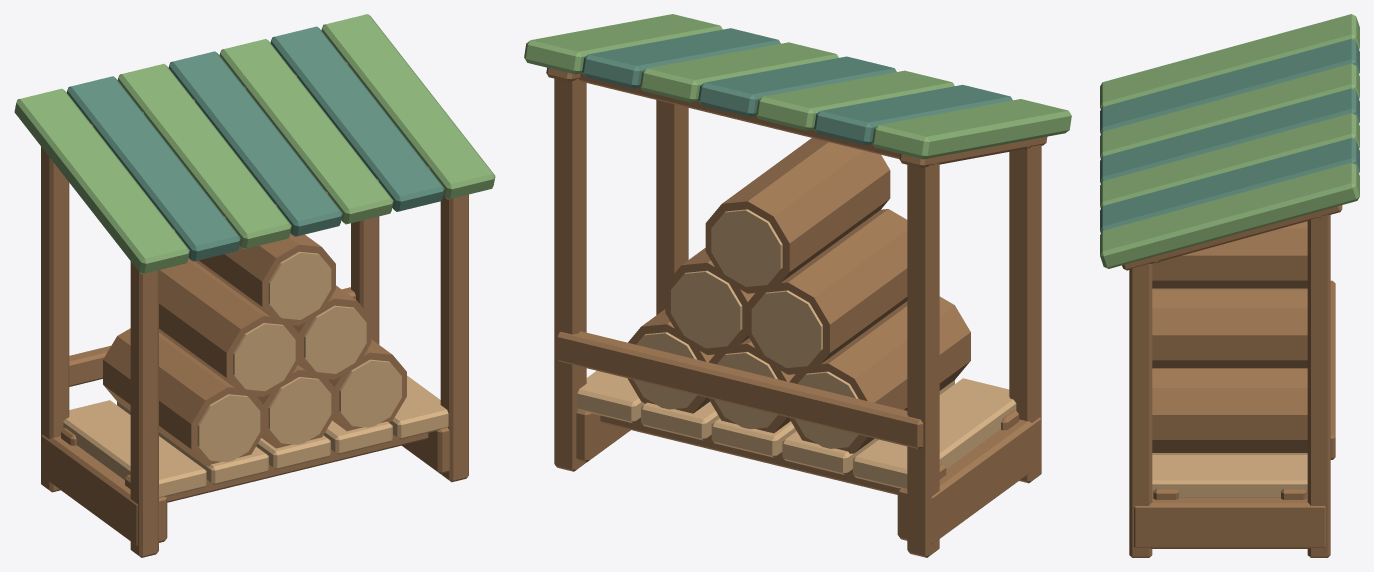
3 views of the same model, side by side, from view 1: azimuth 30°, elevation 25°; view 2: azimuth 150°, elevation 25°; view 3: azimuth 270°, elevation 25° (orthographic). The views are drawn at different scales.
Parts seen in each view (by area): view 1: village-log-shelter-01; view 2: village-log-shelter-01; view 3: village-log-shelter-01.
Part boxes in pixels (bbox=[...]): village-log-shelter-01: bbox=[14, 14, 495, 557]; village-log-shelter-01: bbox=[524, 14, 1071, 557]; village-log-shelter-01: bbox=[1100, 14, 1359, 557].
Size of the model in its own units: 1.6 by 1.65 by 1.02.
